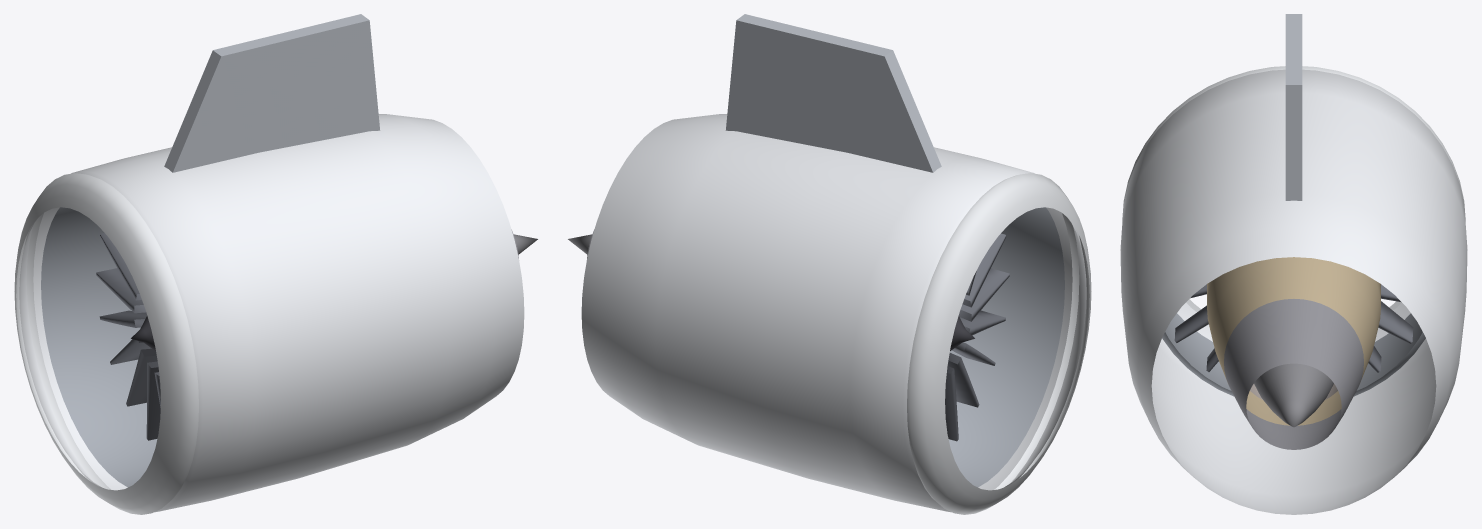
The model's file is engine-pw1100g.glb.
The picture shows the model from 3 angles, left to right: view 1: azimuth 30°, elevation 25°; view 2: azimuth 150°, elevation 25°; view 3: azimuth 270°, elevation 25°; orthographic projection.
Parts seen in each view (by area): view 1: 01_Nacelle_Cowl, 10_Pylon, 01b_Inlet_Lip, 02_Fan_Case, 04_Fan_Blades; view 2: 01_Nacelle_Cowl, 10_Pylon, 01b_Inlet_Lip, 02_Fan_Case, 04_Fan_Blades; view 3: 01_Nacelle_Cowl, 08_Exhaust_Nozzle, 05_Core_Casing, 02_Fan_Case, 10_Pylon, 09_Exhaust_Plug, 04_Fan_Blades, 01b_Inlet_Lip.
Boxes of the visible parts, x1=… form: 01_Nacelle_Cowl: x1=19, y1=114, x2=524, y2=512; 10_Pylon: x1=164, y1=14, x2=380, y2=172; 01b_Inlet_Lip: x1=14, y1=173, x2=198, y2=514; 02_Fan_Case: x1=41, y1=207, x2=157, y2=487; 04_Fan_Blades: x1=96, y1=233, x2=160, y2=440; 01_Nacelle_Cowl: x1=581, y1=114, x2=1086, y2=512; 10_Pylon: x1=725, y1=14, x2=941, y2=172; 01b_Inlet_Lip: x1=907, y1=173, x2=1091, y2=514; 02_Fan_Case: x1=948, y1=207, x2=1064, y2=487; 04_Fan_Blades: x1=945, y1=233, x2=1009, y2=441; 01_Nacelle_Cowl: x1=1120, y1=69, x2=1467, y2=514; 08_Exhaust_Nozzle: x1=1224, y1=299, x2=1363, y2=449; 05_Core_Casing: x1=1207, y1=257, x2=1380, y2=425; 02_Fan_Case: x1=1162, y1=313, x2=1425, y2=396; 10_Pylon: x1=1285, y1=14, x2=1302, y2=200; 09_Exhaust_Plug: x1=1254, y1=363, x2=1333, y2=427; 04_Fan_Blades: x1=1174, y1=284, x2=1413, y2=372; 01b_Inlet_Lip: x1=1122, y1=66, x2=1465, y2=311.
Size of the model in its own units: 3.64 by 3.28 by 2.48.
